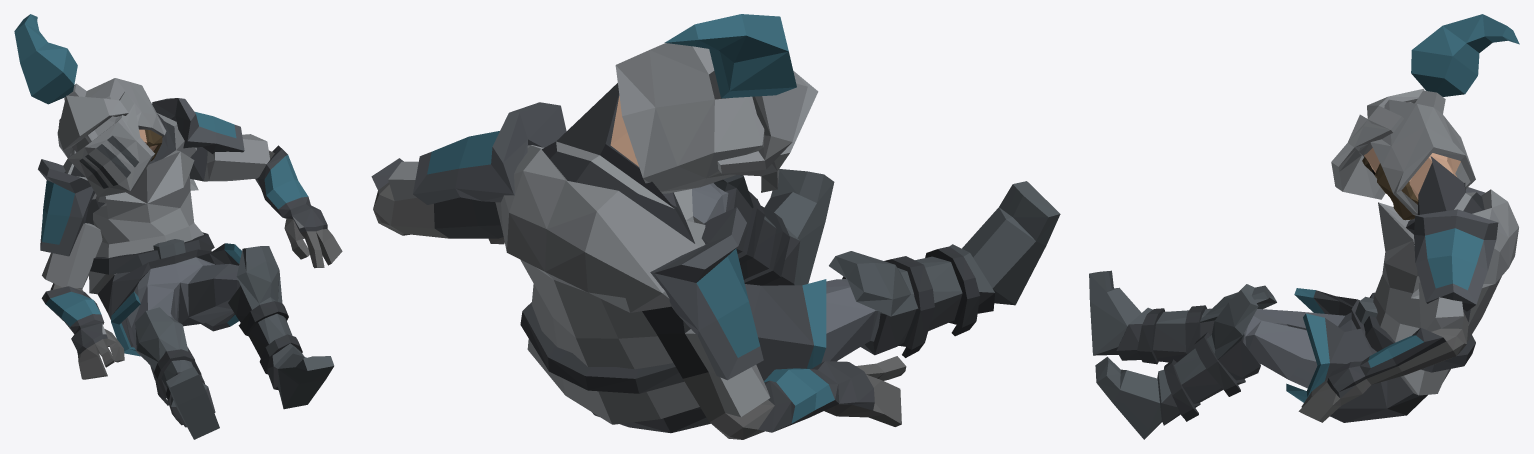
Rendered from prop_dead_knight2.gltf.
The picture shows the model from 3 angles, left to right: view 1: azimuth 30°, elevation 25°; view 2: azimuth 150°, elevation 25°; view 3: azimuth 270°, elevation 25°; orthographic projection. The views are drawn at different scales.
Visible parts, largest first — view 1: prop_dead_knight2; view 2: prop_dead_knight2; view 3: prop_dead_knight2.
Boxes of the visible parts, bbox=[...] form: prop_dead_knight2: bbox=[14, 14, 342, 439]; prop_dead_knight2: bbox=[371, 14, 1060, 439]; prop_dead_knight2: bbox=[1089, 14, 1519, 439].
Bounding box in the file's own units: 1.05 × 1.14 × 1.27.
Materials: 1 (1 with a texture image).
